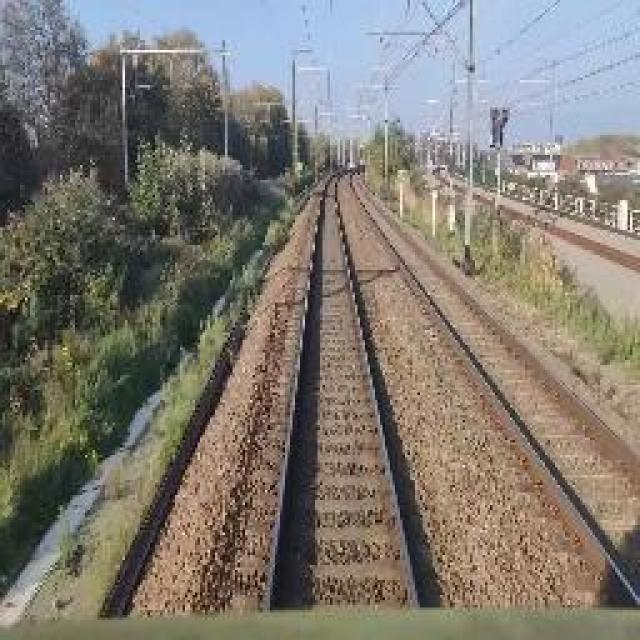rail: (252, 165, 451, 612)
